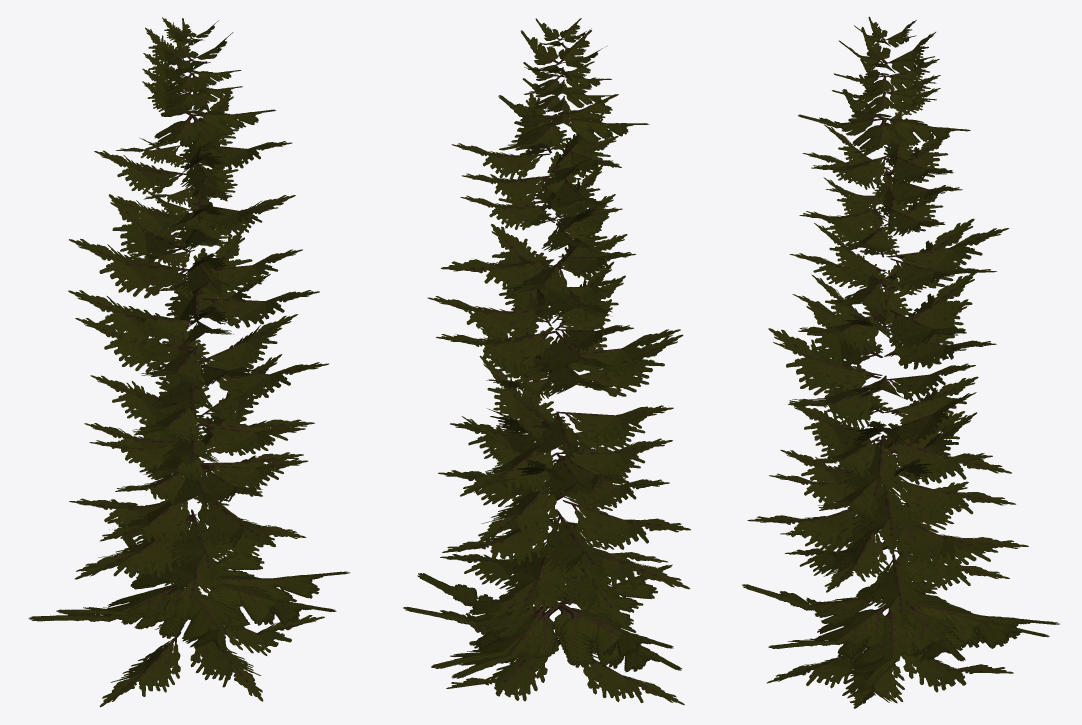
Rendered from Pine_Tree_02_Leafs.obj.
3 views of the same model, side by side, from view 1: azimuth 30°, elevation 25°; view 2: azimuth 150°, elevation 25°; view 3: azimuth 270°, elevation 25° (orthographic). The views are drawn at different scales.
Visible parts, largest first — view 1: Plane.146_Plane.082, Plane.067_Plane.003, Plane.097_Plane.033, Plane.148_Plane.084, Plane.140_Plane.076, Plane.093_Plane.029, Plane.075_Plane.011, Plane.096_Plane.032, Plane.153_Plane.089, Plane.070_Plane.006, Plane.139_Plane.075, Plane.154_Plane.090 (+47 smaller); view 2: Plane.139_Plane.075, Plane.174_Plane.110, Plane.153_Plane.089, Plane.074_Plane.010, Plane.073_Plane.009, Plane.171_Plane.107, Plane.069_Plane.005, Plane.092_Plane.028, Plane.140_Plane.076, Plane.173_Plane.109, Plane.082_Plane.018, Plane.152_Plane.088 (+55 smaller); view 3: Plane.144_Plane.080, Plane.146_Plane.082, Plane.150_Plane.086, Plane.160_Plane.096, Plane.073_Plane.009, Plane.152_Plane.088, Plane.082_Plane.018, Plane.076_Plane.012, Plane.151_Plane.087, Plane.075_Plane.011, Plane.093_Plane.029, Plane.066_Plane.001 (+50 smaller).
Boxes of the visible parts, x1,y1,x2,y2 form: Plane.146_Plane.082: [208, 583, 336, 630]; Plane.067_Plane.003: [159, 585, 239, 651]; Plane.097_Plane.033: [69, 238, 191, 298]; Plane.148_Plane.084: [99, 632, 181, 707]; Plane.140_Plane.076: [75, 514, 195, 579]; Plane.093_Plane.029: [68, 290, 192, 349]; Plane.075_Plane.011: [195, 498, 275, 547]; Plane.096_Plane.032: [108, 194, 188, 263]; Plane.153_Plane.089: [100, 498, 189, 545]; Plane.070_Plane.006: [190, 632, 263, 701]; Plane.139_Plane.075: [28, 585, 179, 629]; Plane.154_Plane.090: [170, 509, 231, 583]; Plane.139_Plane.075: [559, 603, 681, 672]; Plane.174_Plane.110: [499, 541, 575, 621]; Plane.153_Plane.089: [563, 500, 690, 549]; Plane.074_Plane.010: [539, 509, 615, 577]; Plane.073_Plane.009: [477, 487, 558, 543]; Plane.171_Plane.107: [436, 330, 556, 373]; Plane.069_Plane.005: [446, 654, 548, 701]; Plane.092_Plane.028: [427, 296, 547, 342]; Plane.140_Plane.076: [557, 531, 689, 591]; Plane.173_Plane.109: [451, 605, 558, 678]; Plane.082_Plane.018: [460, 441, 552, 496]; Plane.152_Plane.088: [442, 509, 557, 565]; Plane.144_Plane.080: [837, 602, 929, 688]; Plane.146_Plane.082: [768, 603, 891, 648]; Plane.150_Plane.086: [865, 553, 929, 629]; Plane.160_Plane.096: [844, 434, 911, 513]; Plane.073_Plane.009: [896, 481, 1015, 519]; Plane.152_Plane.088: [897, 522, 997, 564]; Plane.082_Plane.018: [883, 435, 1011, 483]; Plane.076_Plane.012: [823, 528, 888, 592]; Plane.151_Plane.087: [852, 485, 922, 554]; Plane.075_Plane.011: [747, 508, 863, 546]; Plane.093_Plane.029: [889, 273, 975, 341]; Plane.066_Plane.001: [906, 601, 1049, 652].
Size of the model in its own units: 3.04 by 6.17 by 2.83.
Materials: 1 (1 with a texture image).
